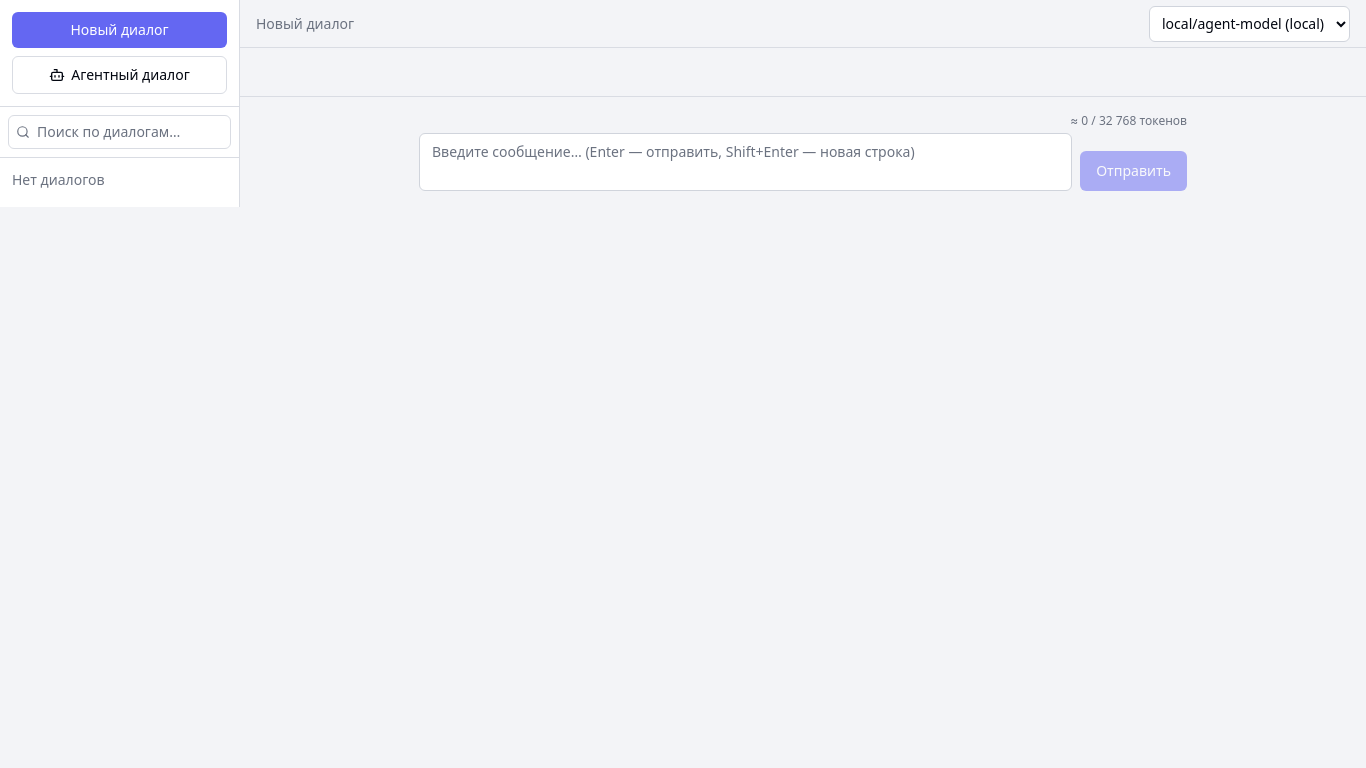
Test: Т-502: агентный диалог в ChatPage › создание агентного диалога переключает режим
This screenshot has width=1366, height=768.
Click the button with test id "new-agent-chat". click: (120, 75)
box: top-left (12, 56), bottom-right (227, 94)
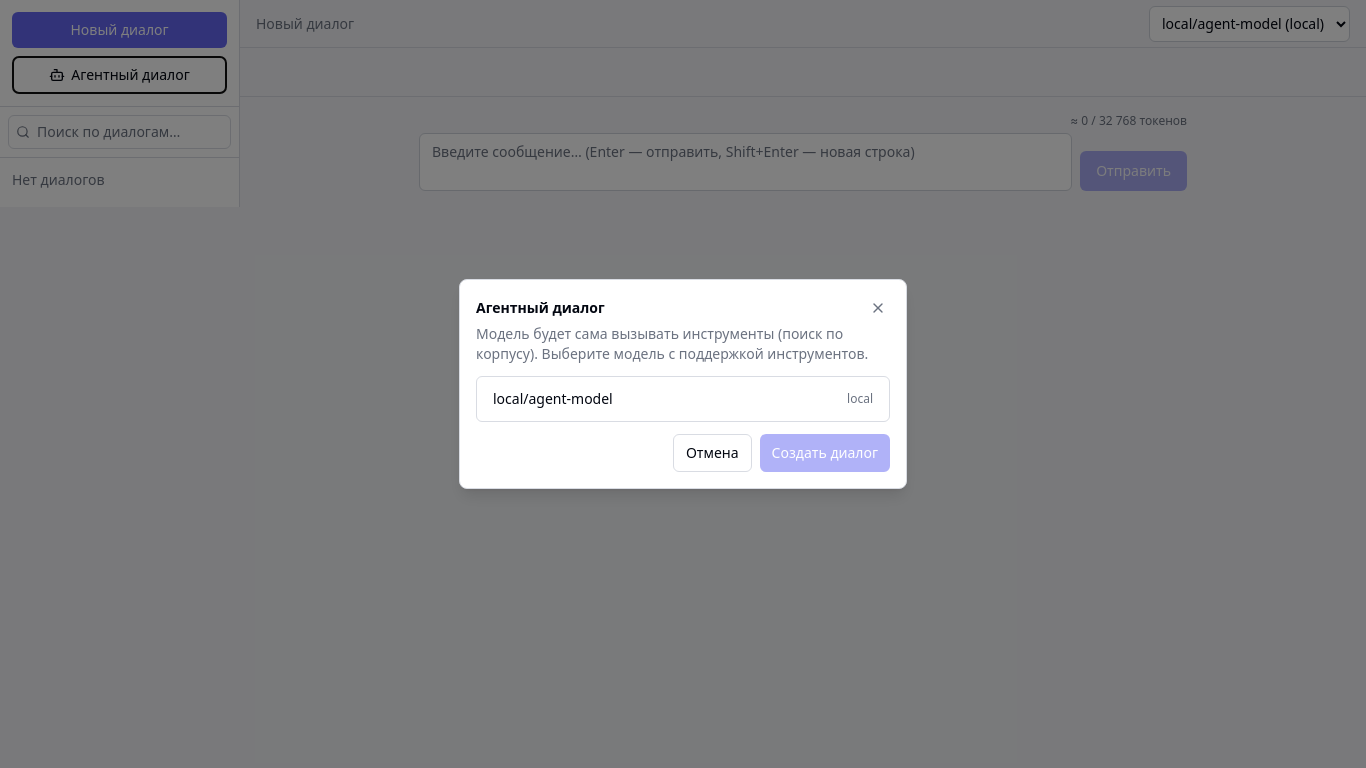
Click the text "local/agent-model". click: (553, 399)
box: top-left (493, 389), bottom-right (613, 409)
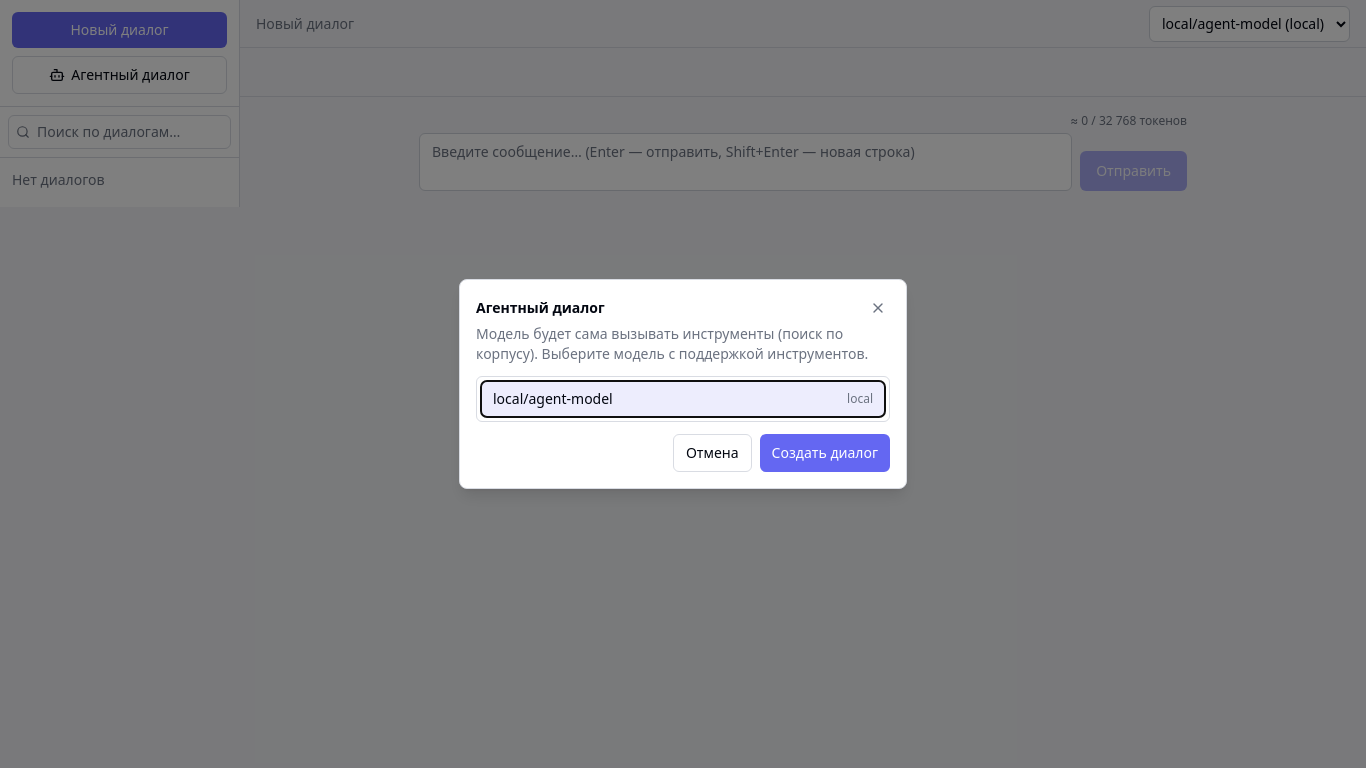
Click the button "Создать диалог". click: (825, 453)
box: top-left (760, 434), bottom-right (890, 472)
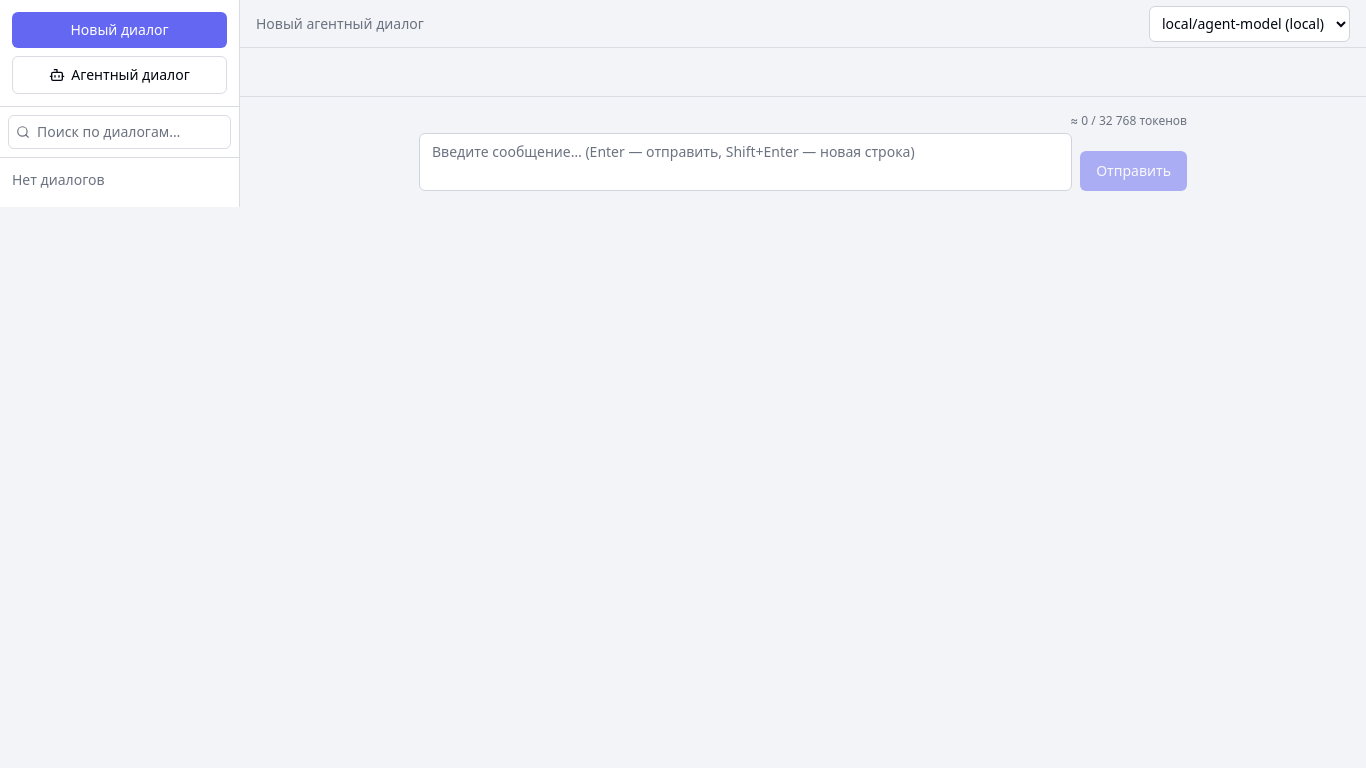
Check: the text "Новый агентный диалог" is shown, box top-left (256, 14), bottom-right (424, 32)
